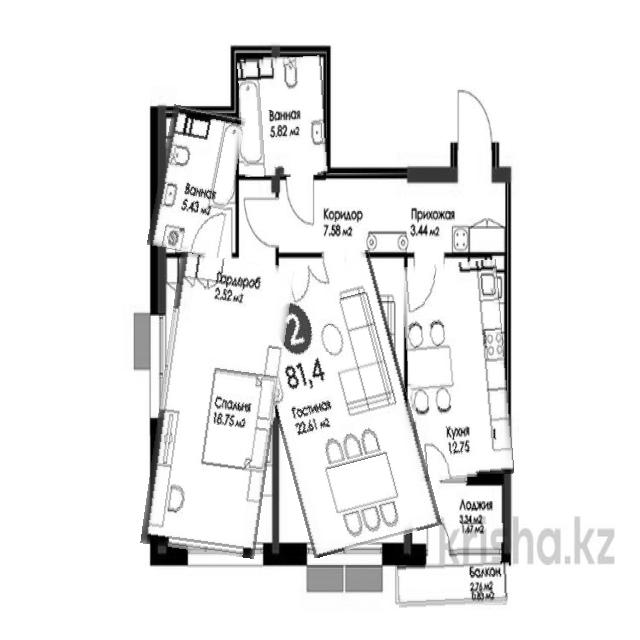balcony: (409, 484, 505, 561), (397, 562, 511, 607)
bathroom: (154, 107, 240, 256), (239, 57, 327, 178)
hallway: (238, 177, 511, 256)
kitchen: (403, 261, 510, 480)
living_room: (259, 255, 425, 552), (150, 256, 285, 556)
